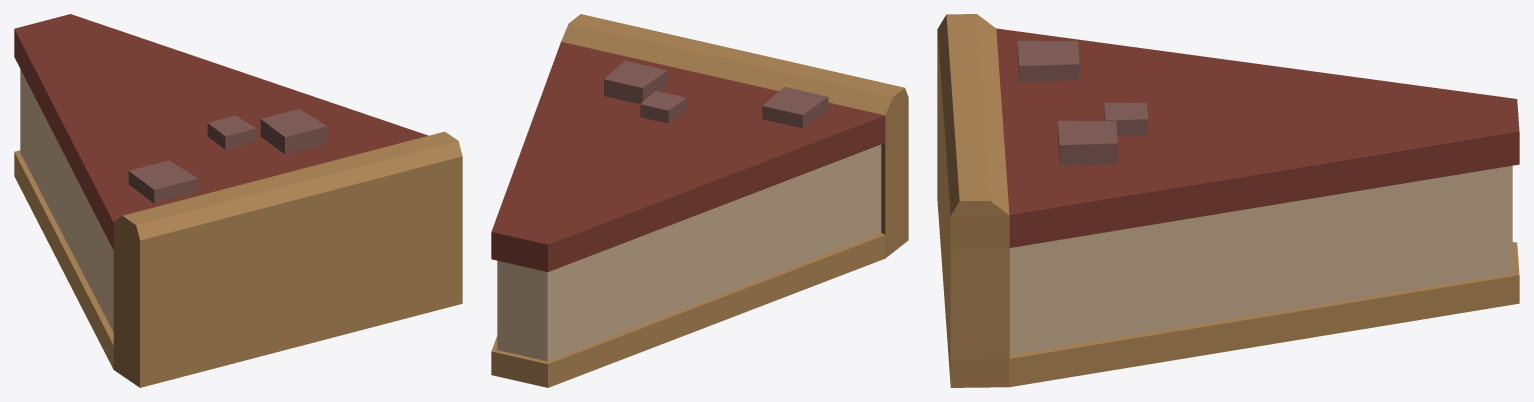
Rendered from cake.fbx.
3 renders of one model, left to right at view 1: azimuth 30°, elevation 25°; view 2: azimuth 150°, elevation 25°; view 3: azimuth 270°, elevation 25°, orthographic. The views are drawn at different scales.
Visible parts, largest first — view 1: Cube.047; view 2: Cube.047; view 3: Cube.047.
Boxes of the visible parts, x1,y1,x2,y2 form: Cube.047: (14, 14, 462, 387); Cube.047: (491, 14, 908, 387); Cube.047: (937, 14, 1519, 387).
Bounding box in the file's own units: 0.3986 × 0.5227 × 0.1906.
